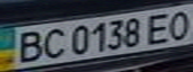0: (66, 21, 90, 56)
1: (87, 19, 109, 52)
3: (106, 16, 127, 51)
8: (121, 15, 148, 48)
B: (9, 28, 48, 64)
C: (36, 26, 69, 60)
E: (142, 10, 178, 45)
O: (163, 7, 193, 40)
